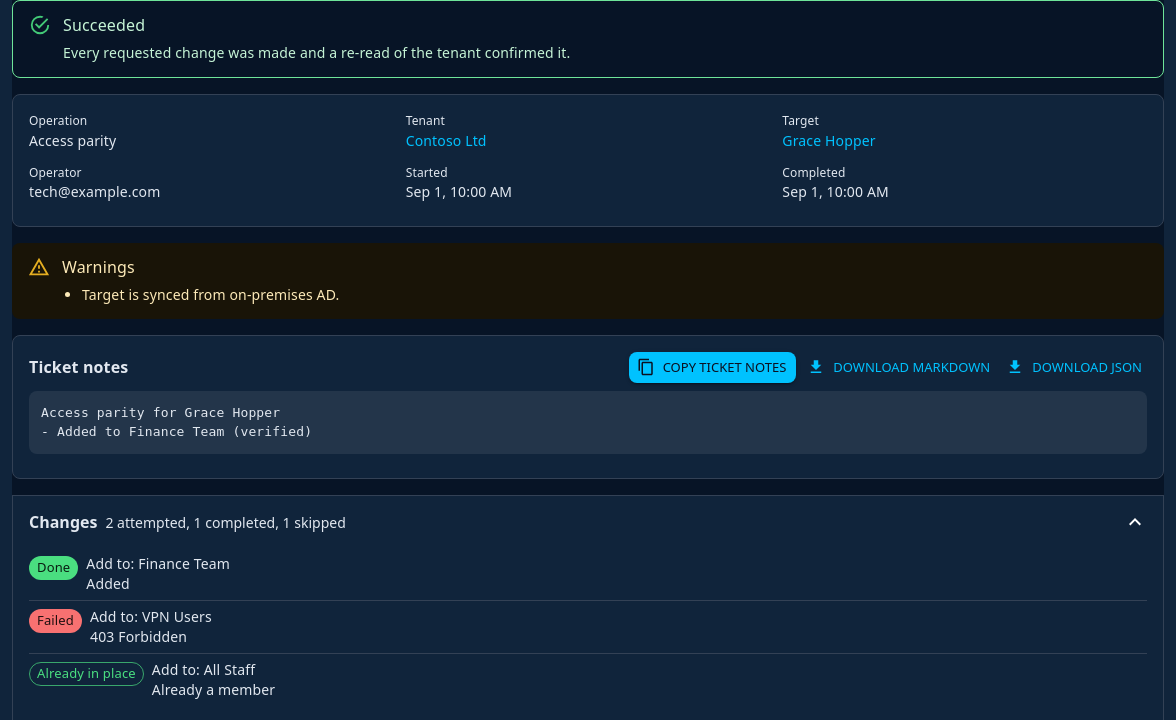
Test: EvidencePanel › copies the ticket notes and confirms with a toast
This screenshot has width=1176, height=720.
Click the button "Copy ticket notes" at (713, 368), box [629,352,796,383]
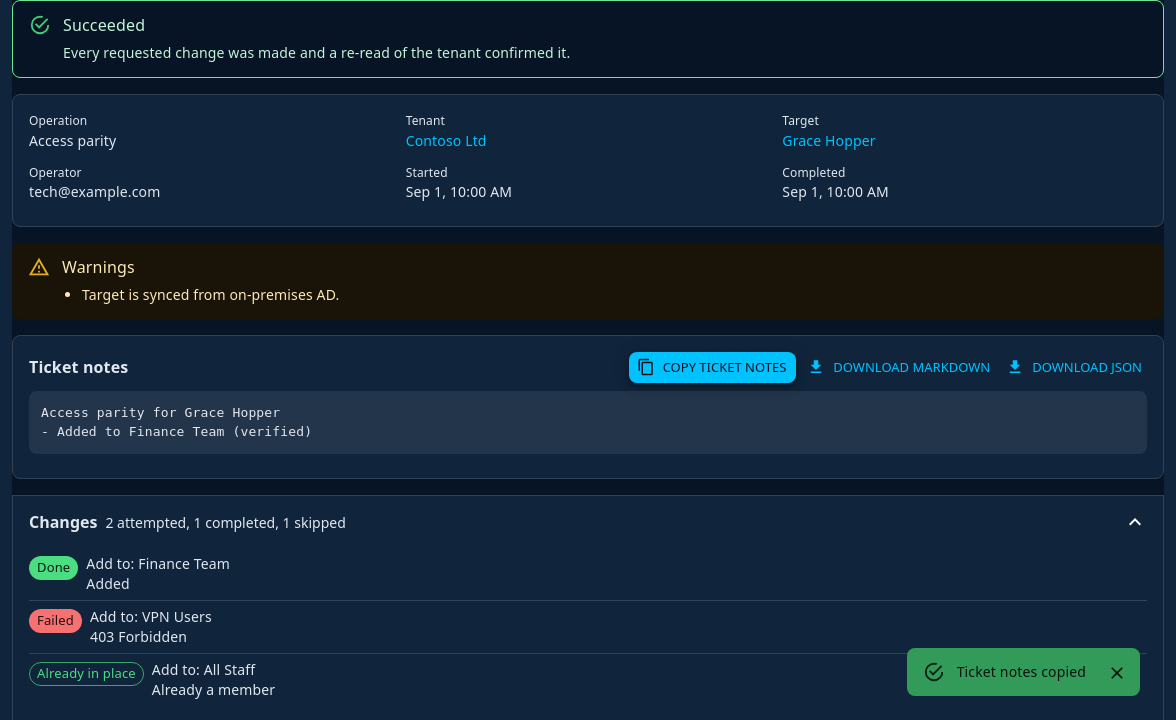
Expected: the text "Ticket notes copied" is shown, [957,662,1086,681]
